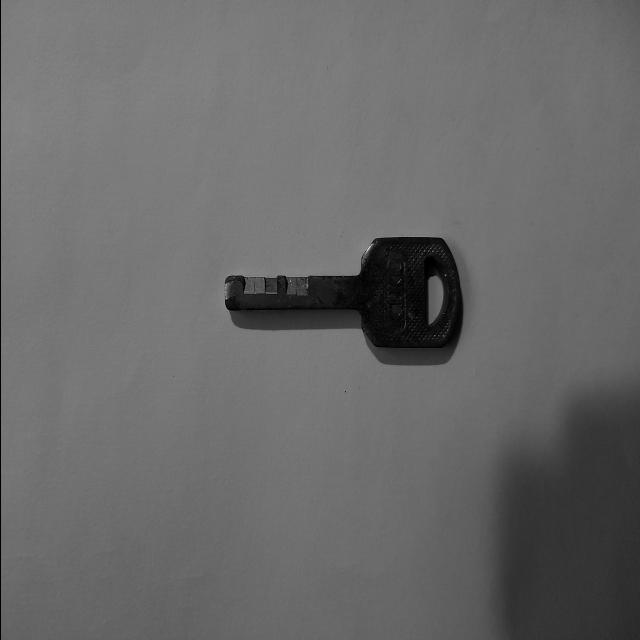key: (224, 237, 460, 348)
